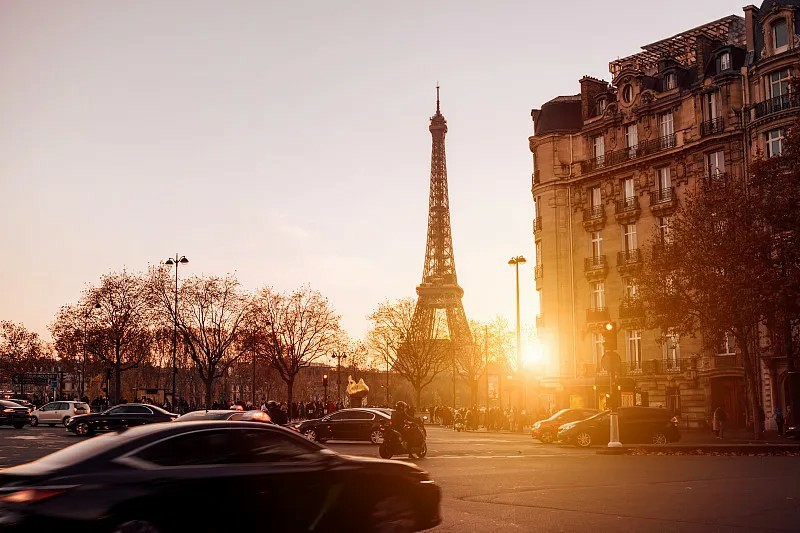Eiffel: (389, 81, 484, 373)
